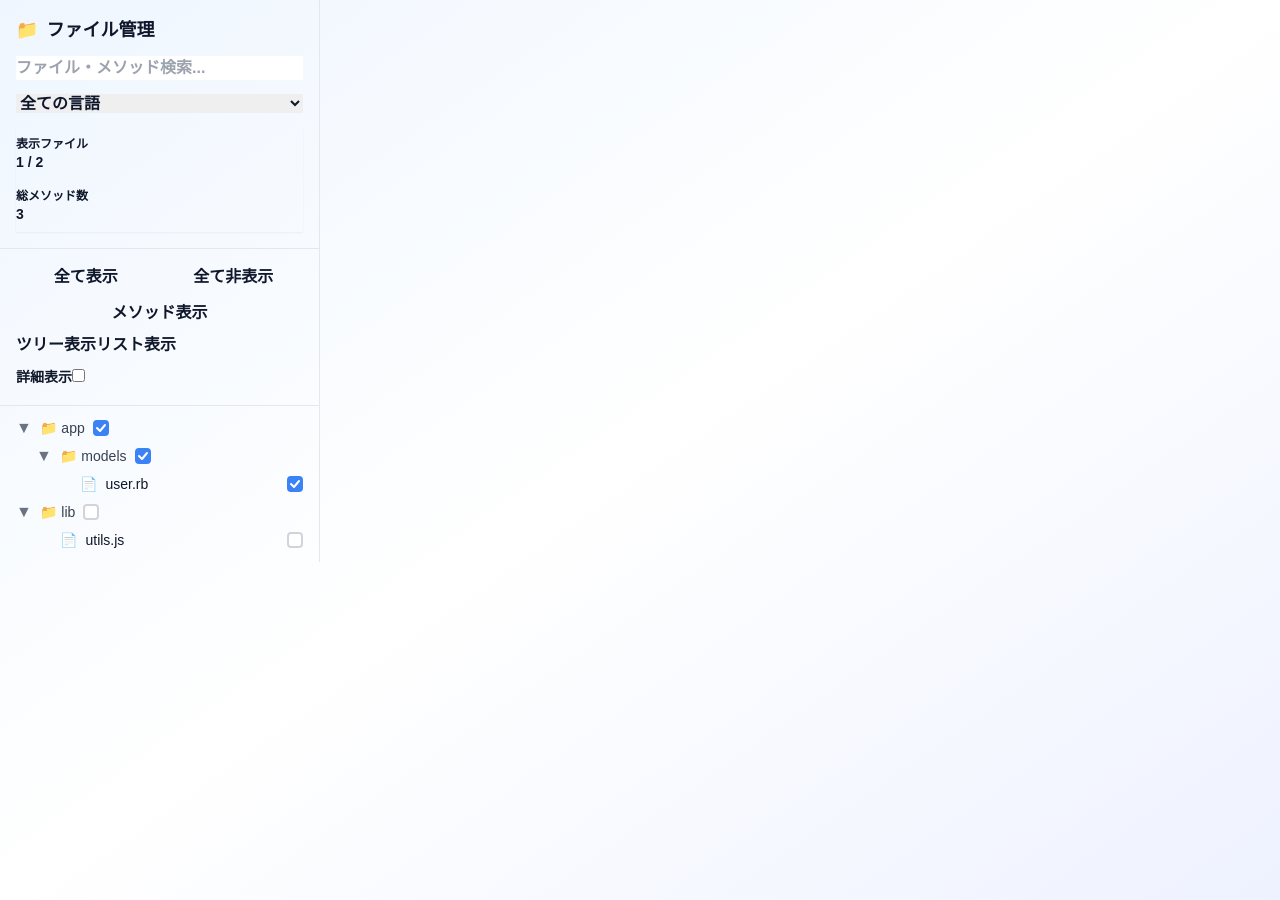
it: Sidebar コンポーネント › 空の検索結果を適切に処理
In the field with placeholder "ファイル・メソッド検索...": coordinates (160, 68) [16, 56, 303, 80], type "nonexistent"
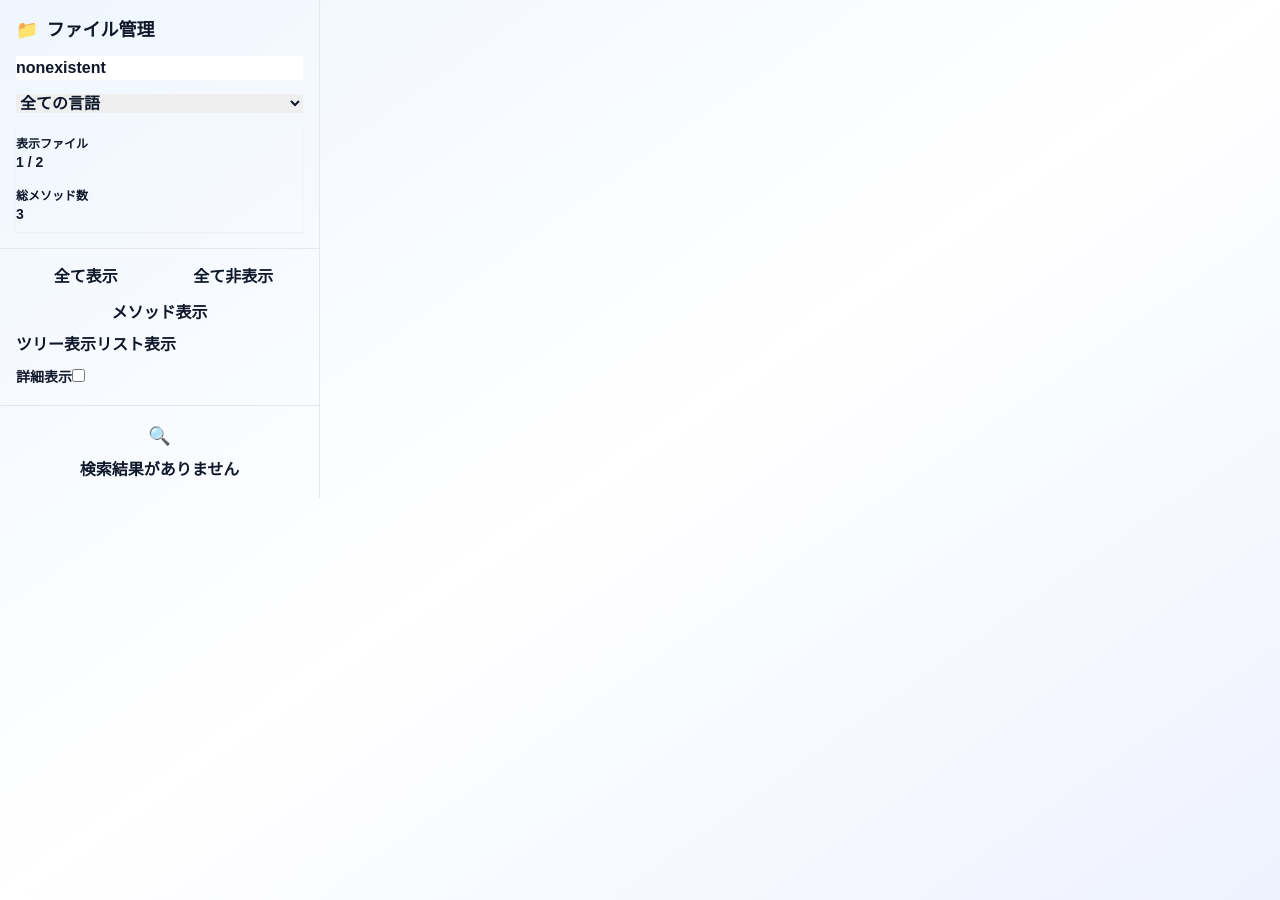
Expected: the text "検索結果がありません" is shown, [80, 461, 239, 478]
